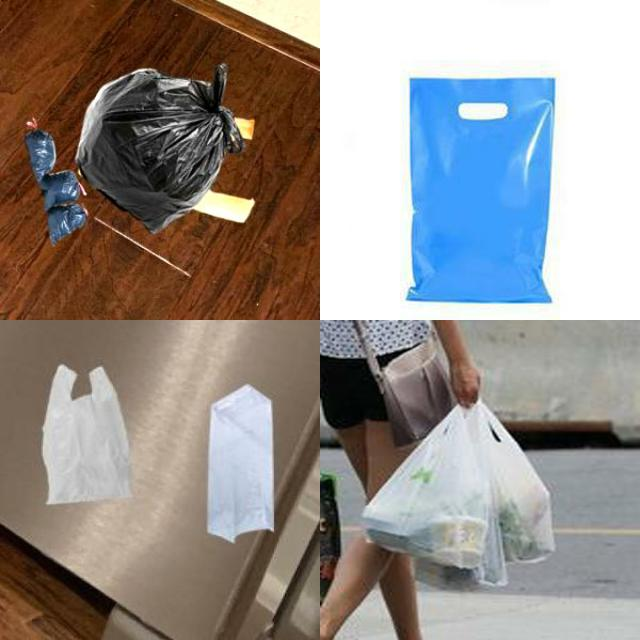Single-layer Plastic: (362, 401, 555, 585), (408, 78, 555, 302), (76, 64, 244, 232), (42, 365, 130, 503), (208, 384, 274, 542)
